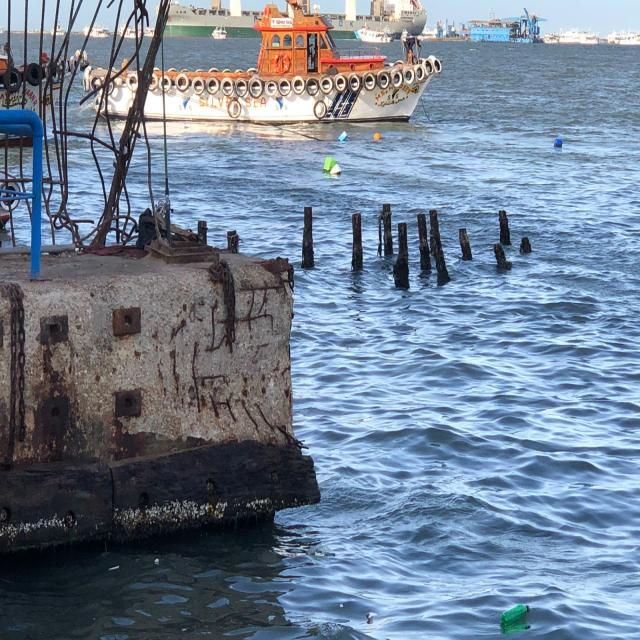Rebar: (157, 272, 289, 437)
